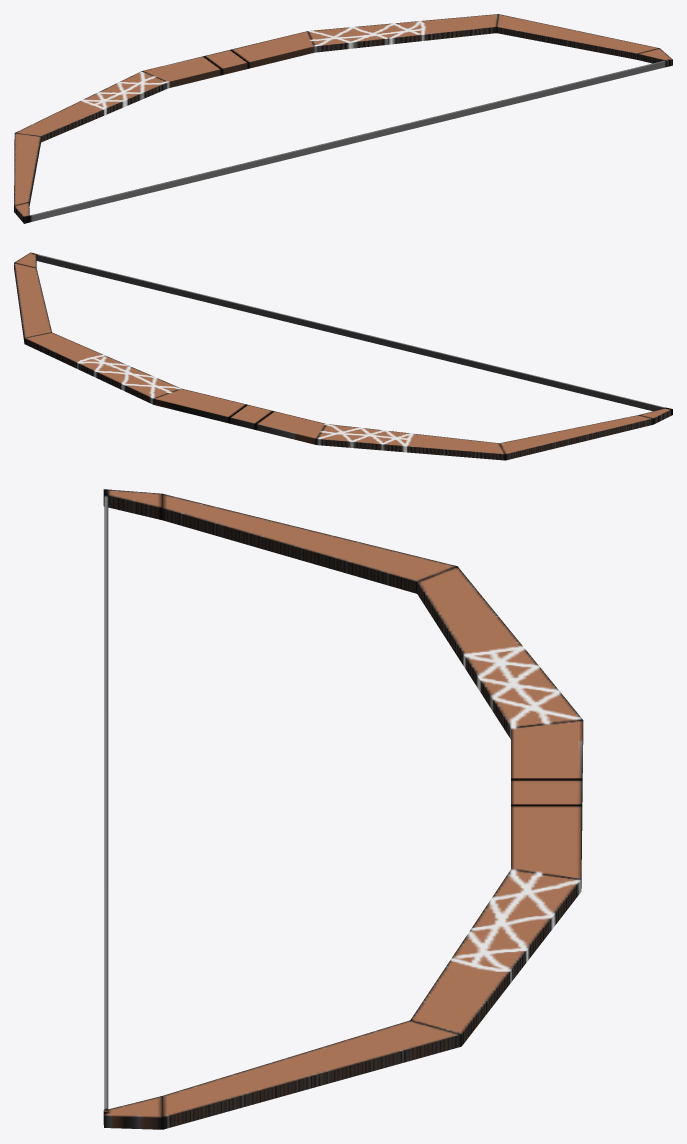
File: bow.glb
The picture shows the model from 3 angles, top to bottom: view 1: azimuth 30°, elevation 25°; view 2: azimuth 150°, elevation 25°; view 3: azimuth 270°, elevation 25°; orthographic projection. The views are drawn at different scales.
Parts seen in each view (by area): view 1: Plane; view 2: Plane; view 3: Plane.
Part boxes in pixels (left/top/right/bottom): Plane: left=14, top=14, right=672, bottom=223; Plane: left=14, top=252, right=672, bottom=460; Plane: left=103, top=489, right=583, bottom=1129.
Bounding box in the file's own units: 53.3 × 0.4693 × 17.18.
Materials: 1 (1 with a texture image).
